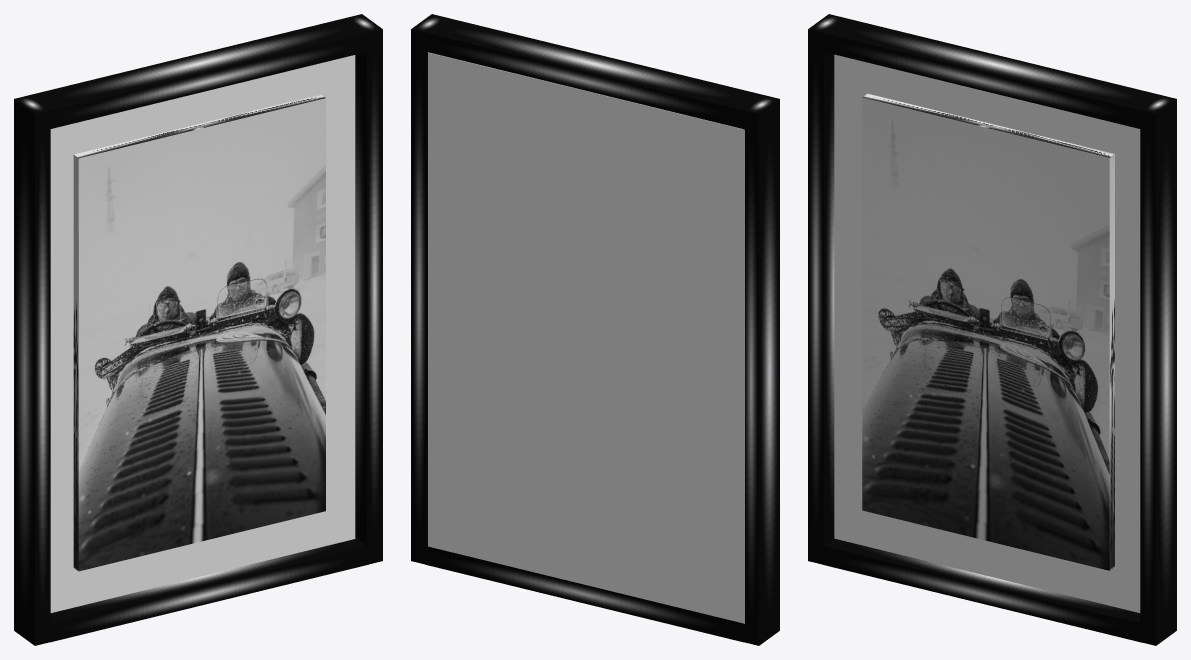
The model's file is frame-image6.glb.
3 renders of one model, left to right at view 1: azimuth 30°, elevation 25°; view 2: azimuth 150°, elevation 25°; view 3: azimuth 330°, elevation 25°, orthographic.
Visible parts, largest first — view 1: image, Cube, Cube (4), Cube (1), Cube (3), Cube (2); view 2: Cube, Cube (4), Cube (3), Cube (1), Cube (2); view 3: image, Cube, Cube (1), Cube (4), Cube (3), Cube (2).
Boxes of the visible parts, x1,y1,x2,y2 form: image: (73, 94, 325, 571); Cube: (50, 55, 355, 612); Cube (4): (14, 95, 50, 645); Cube (1): (347, 14, 382, 564); Cube (3): (30, 17, 367, 128); Cube (2): (50, 538, 366, 641); Cube: (428, 52, 744, 623); Cube (4): (744, 95, 779, 645); Cube (3): (425, 18, 763, 129); Cube (1): (411, 14, 447, 564); Cube (2): (425, 546, 743, 642); image: (862, 93, 1114, 570); Cube: (834, 54, 1140, 612); Cube (1): (1140, 95, 1176, 645); Cube (4): (808, 14, 843, 564); Cube (3): (824, 18, 1160, 128); Cube (2): (824, 538, 1141, 642).
Size of the model in its own units: 193 by 282 by 20.01.
Materials: 3 (2 with a texture image).
